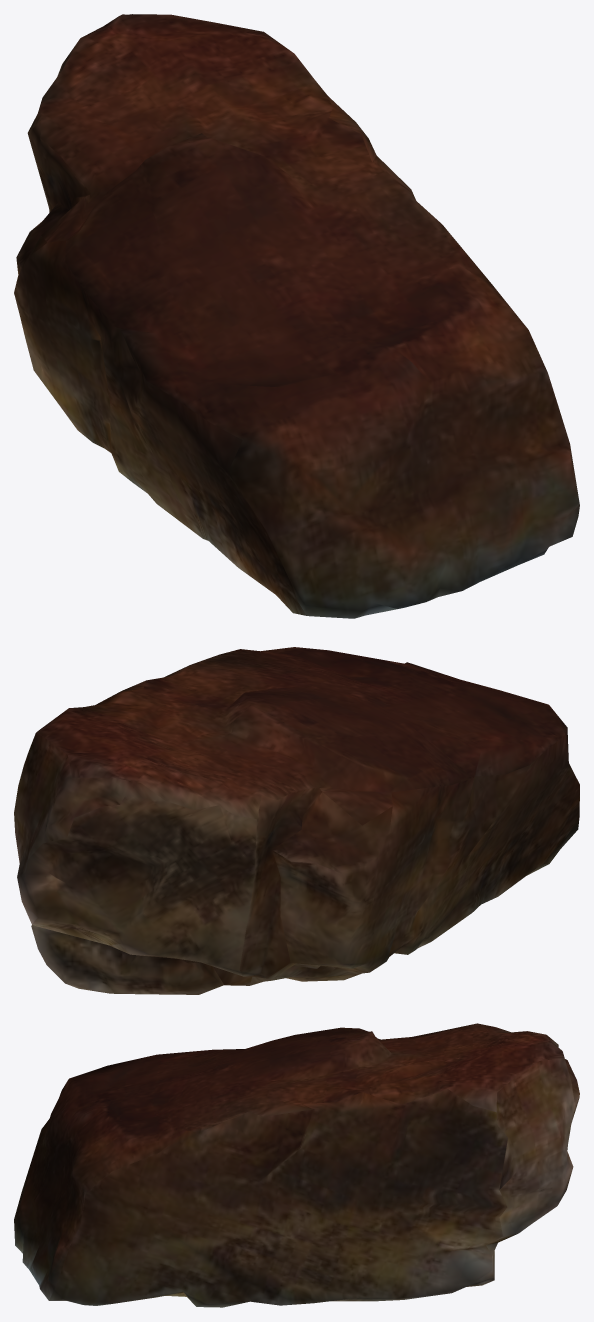
3 renders of one model, top to bottom at view 1: azimuth 30°, elevation 25°; view 2: azimuth 150°, elevation 25°; view 3: azimuth 270°, elevation 25°, orthographic. The views are drawn at different scales.
Parts seen in each view (by area): view 1: rock_07; view 2: rock_07; view 3: rock_07.
Boxes of the visible parts, box(x1,y1,x2,y2) form: rock_07: box(14, 14, 579, 618); rock_07: box(14, 647, 579, 994); rock_07: box(14, 1023, 579, 1307).
Bounding box in the file's own units: 0.1679 × 0.1437 × 0.3201.
1 material, 1 textured.
